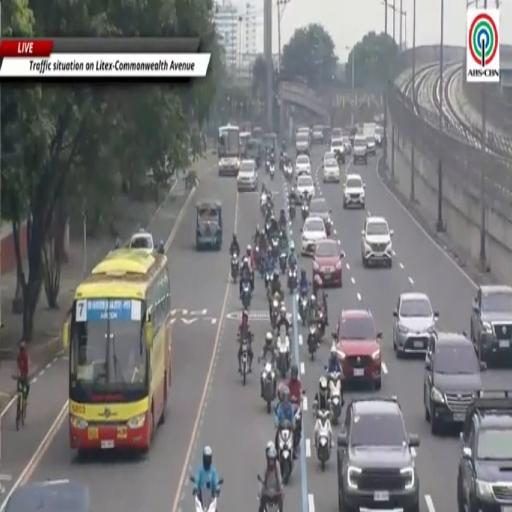bus: (62, 248, 172, 453), (218, 124, 241, 177)
car: (337, 397, 419, 511), (457, 390, 511, 511), (424, 331, 486, 435), (333, 309, 381, 390), (471, 285, 511, 365), (393, 292, 438, 357), (3, 479, 91, 511), (361, 217, 393, 267), (313, 239, 344, 286), (301, 217, 327, 255), (310, 198, 332, 236), (343, 174, 365, 209), (237, 159, 257, 191), (129, 229, 155, 252), (353, 135, 368, 165), (323, 158, 340, 183), (330, 138, 345, 163), (297, 175, 314, 197), (295, 155, 311, 175), (295, 132, 309, 154), (312, 125, 323, 145), (375, 125, 383, 147), (367, 136, 376, 155), (342, 135, 351, 154), (323, 152, 335, 166), (331, 127, 342, 140)
jeepney: (196, 200, 222, 250)
motorcycle: (315, 410, 332, 470), (277, 422, 293, 485), (261, 362, 275, 413), (329, 373, 342, 425), (241, 334, 252, 385), (277, 335, 290, 378), (306, 324, 319, 361), (195, 491, 219, 511), (264, 490, 280, 511), (241, 281, 251, 309), (299, 295, 308, 326), (271, 299, 279, 329), (317, 309, 325, 339), (288, 267, 297, 293), (231, 253, 239, 282), (271, 235, 279, 258), (279, 252, 287, 274), (279, 217, 287, 236), (283, 165, 292, 181), (264, 271, 272, 289), (254, 245, 260, 268), (301, 203, 309, 220), (261, 192, 267, 214), (289, 203, 296, 220), (336, 151, 344, 165), (325, 220, 332, 236), (270, 164, 275, 180), (265, 219, 271, 232), (279, 155, 284, 170), (265, 159, 270, 173), (303, 390, 305, 395)
